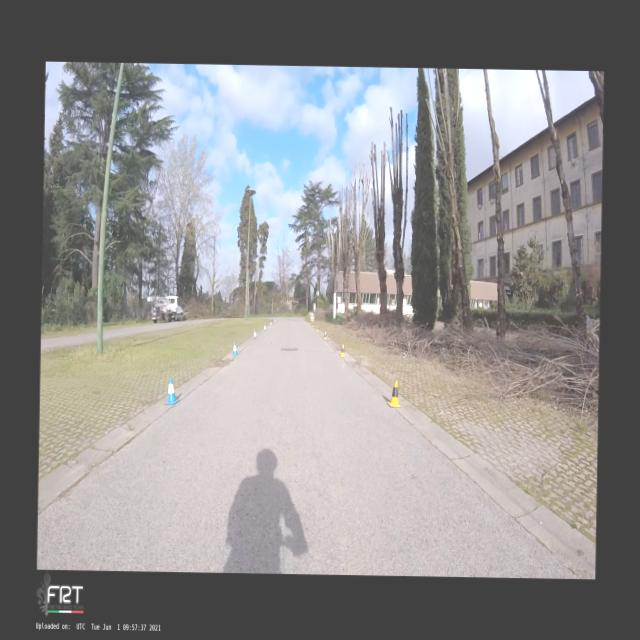blue_cone: (164, 376, 180, 404), (232, 341, 238, 355)
yellow_cone: (386, 380, 401, 408), (339, 343, 345, 358)
